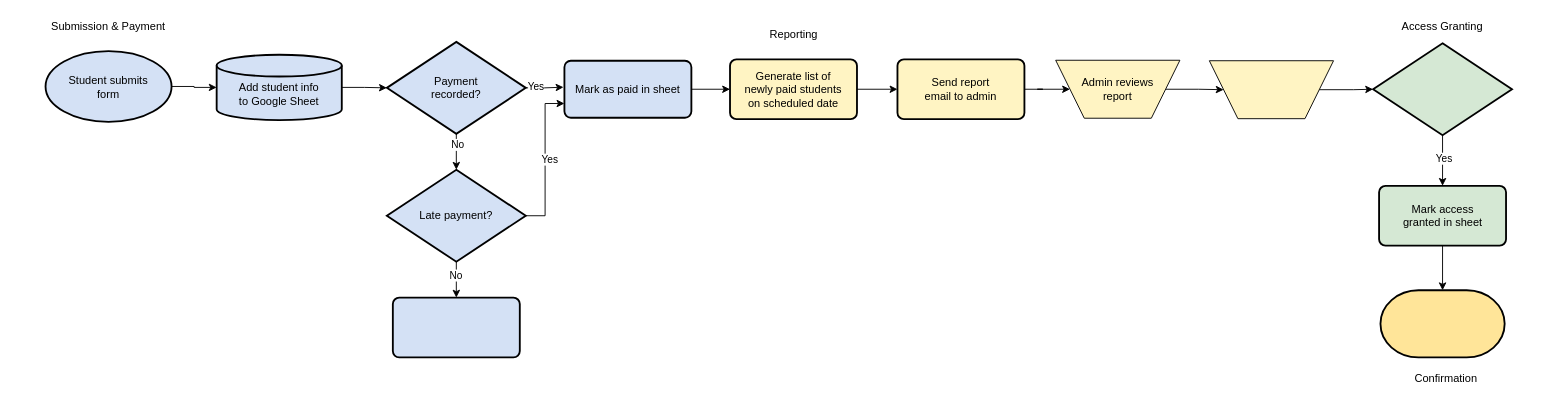
Some shapes in this 1554 by 405 pixel diagram are drawn without their labels. Here are the shapes that lost their labels. From the top down, the box of each, then its label:
(1208, 60, 1334, 119): Request EPFL access for students
(1372, 42, 1512, 136): EPFL grants access?
(391, 296, 520, 358): Flag for follow-up
(1379, 289, 1505, 358): Confirmation email sent to student
